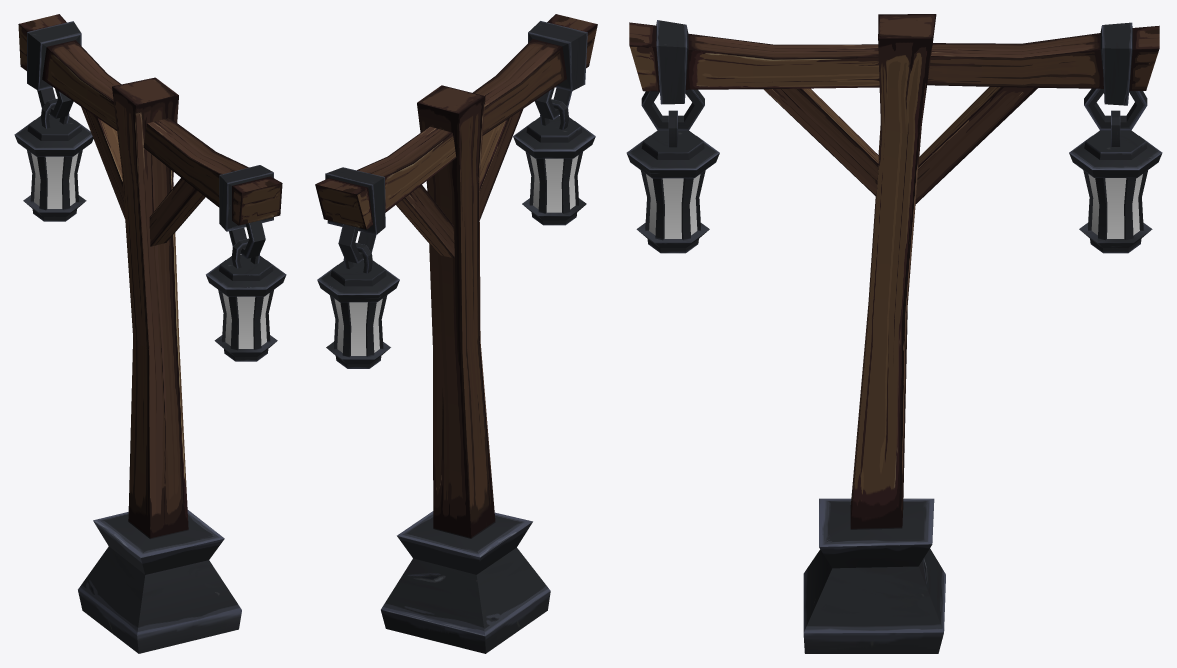
Rendered from SM_PROP_lamp_dungeon_02.fbx.
3 views of the same model, side by side, from view 1: azimuth 30°, elevation 25°; view 2: azimuth 150°, elevation 25°; view 3: azimuth 270°, elevation 25° (orthographic). The views are drawn at different scales.
Parts seen in each view (by area): view 1: SM_PROP_lamp_dungeon_02; view 2: SM_PROP_lamp_dungeon_02; view 3: SM_PROP_lamp_dungeon_02.
Part boxes in pixels (box(x1,y1,x2,y2)): SM_PROP_lamp_dungeon_02: box(14, 14, 286, 653); SM_PROP_lamp_dungeon_02: box(315, 14, 597, 653); SM_PROP_lamp_dungeon_02: box(626, 14, 1162, 653).
Size of the model in its own units: 54.07 by 255 by 206.
